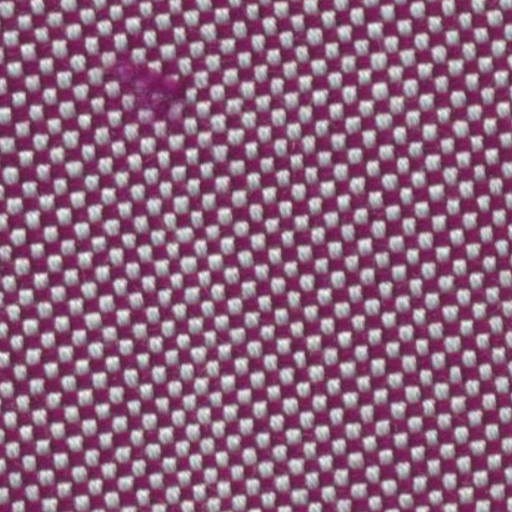DuanSha: (96, 38, 213, 135)
